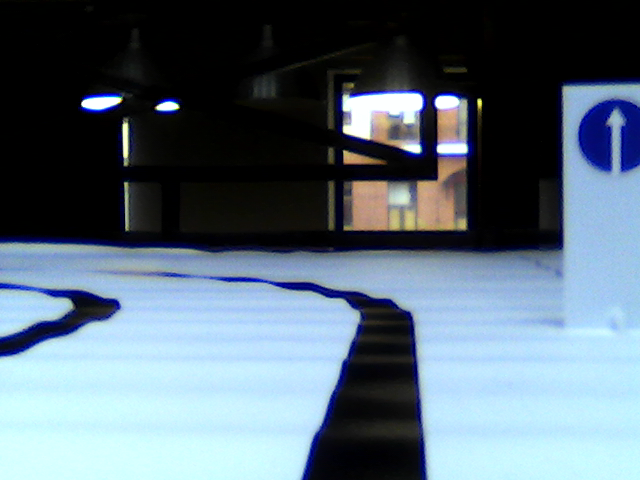forw: (579, 96, 640, 175)
